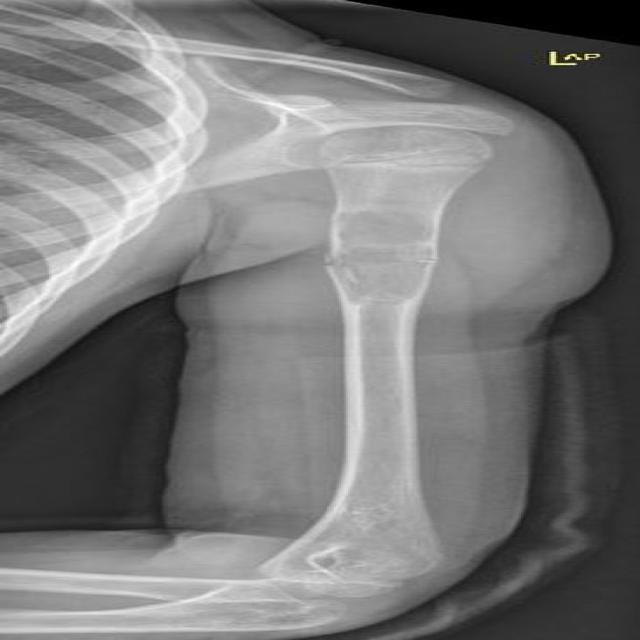pathological: (291, 176, 487, 358)
